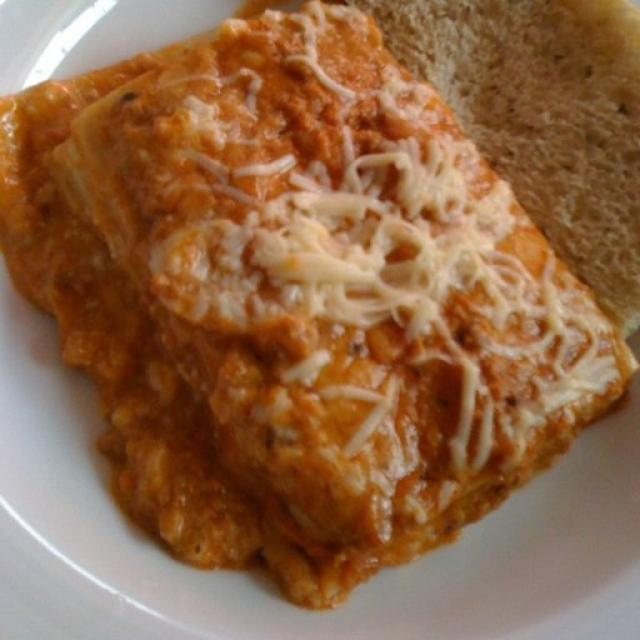Lasagna: (39, 17, 574, 573)
